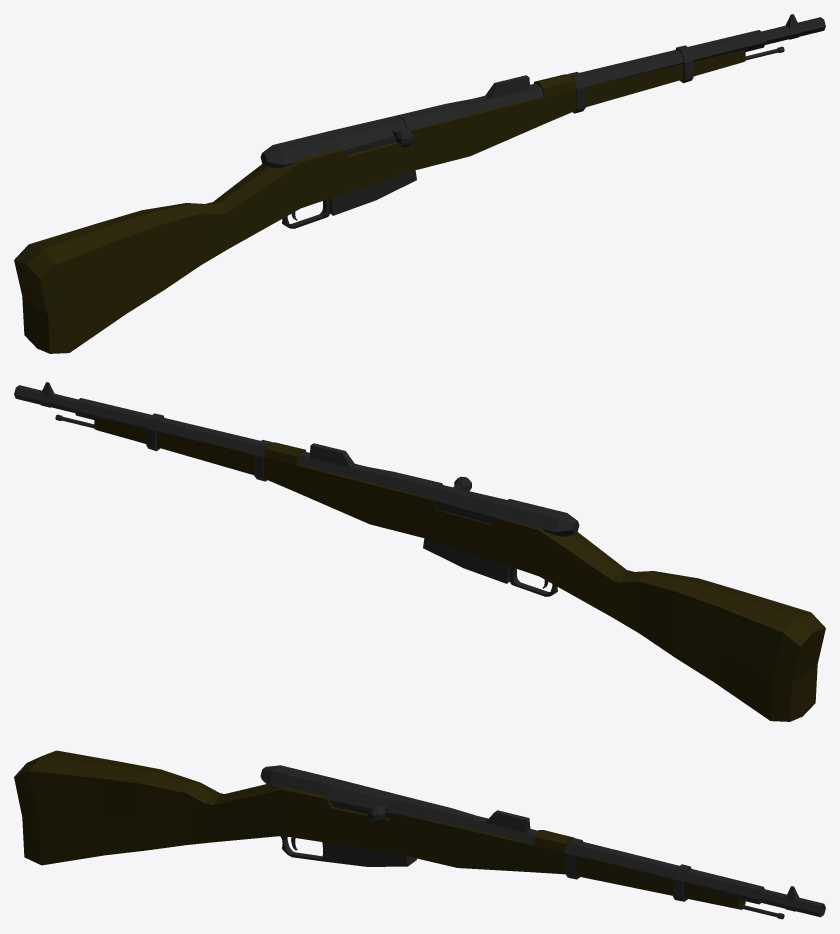
File: Rifle.obj
3 views of the same model, one above another, from view 1: azimuth 30°, elevation 25°; view 2: azimuth 150°, elevation 25°; view 3: azimuth 330°, elevation 25° (orthographic).
Parts seen in each view (by area): view 1: Rifle_Cylinder.045; view 2: Rifle_Cylinder.045; view 3: Rifle_Cylinder.045.
Boxes of the visible parts, x1=… form: Rifle_Cylinder.045: x1=14, y1=14, x2=825, y2=353; Rifle_Cylinder.045: x1=14, y1=382, x2=825, y2=721; Rifle_Cylinder.045: x1=14, y1=750, x2=825, y2=919.
Size of the model in its own units: 3.15 by 0.587 by 0.2216.
